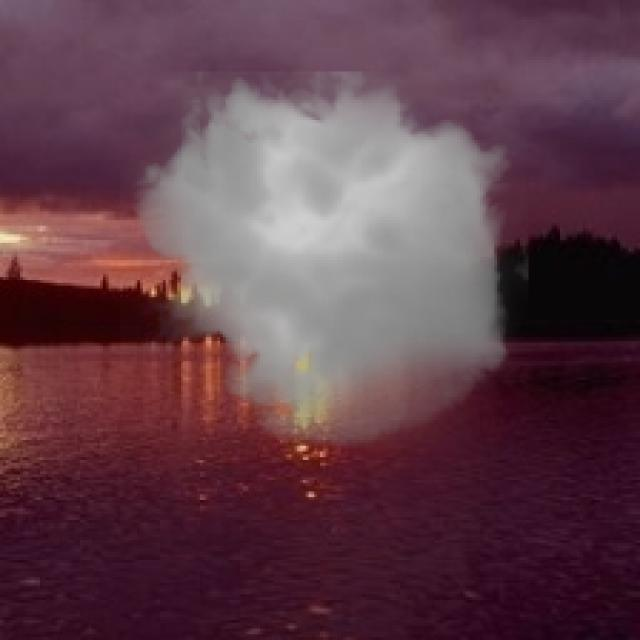smoke: (120, 54, 529, 460)
